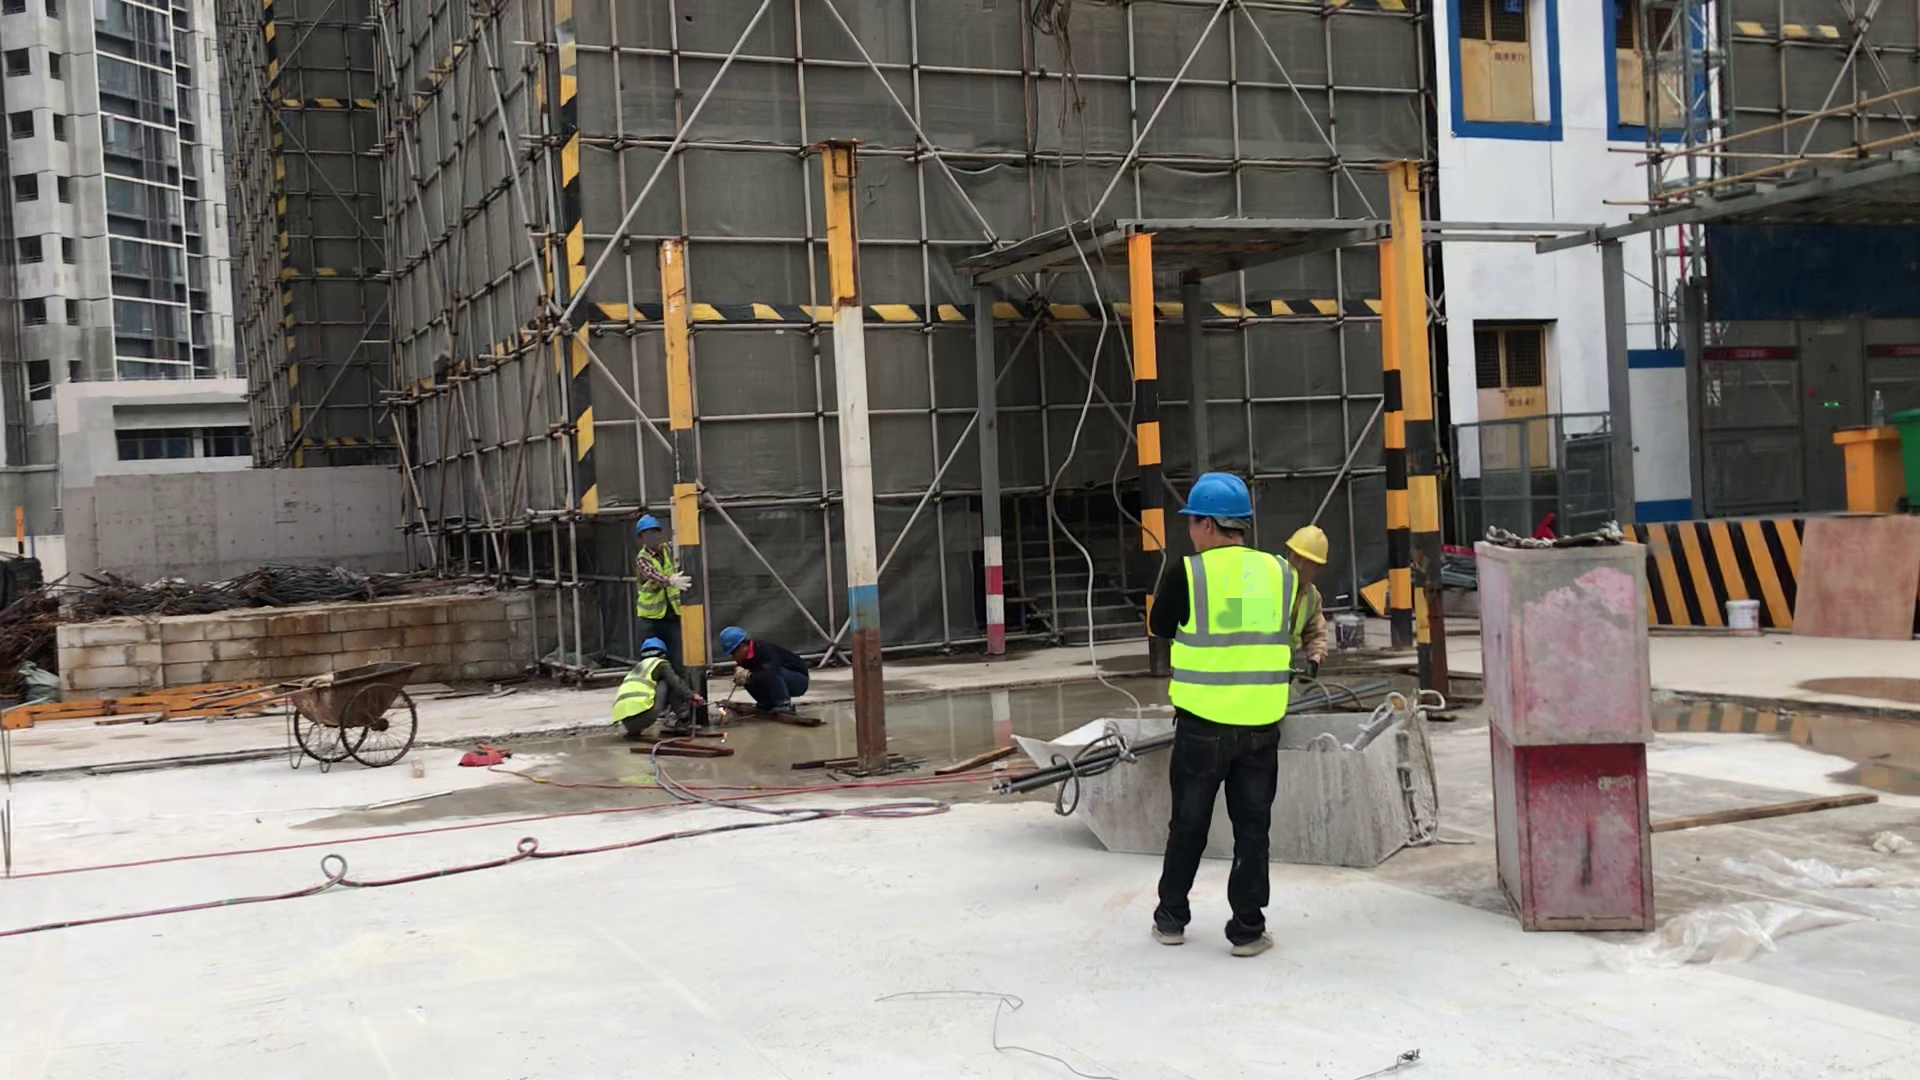handcart: (221, 653, 456, 789)
helmet: (1179, 461, 1258, 531), (1288, 519, 1340, 573), (627, 627, 677, 665), (716, 615, 755, 653), (629, 508, 667, 543)
hopper: (1007, 689, 1460, 878)
person: (1147, 449, 1321, 974), (1271, 496, 1386, 688), (706, 610, 842, 754), (590, 633, 727, 768), (619, 500, 717, 661)
rebar: (985, 720, 1179, 822)
vest: (1171, 543, 1294, 739), (606, 654, 674, 742), (1284, 570, 1334, 677), (626, 545, 687, 632)
